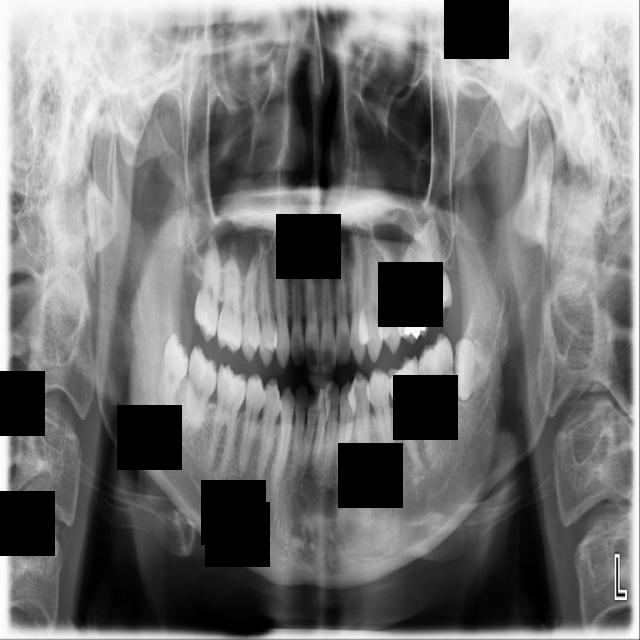52: (393, 291, 431, 347)
73: (607, 544, 610, 548)
BioHorizons Implant: (410, 213, 456, 327)
Biomet 3i Implant: (448, 335, 498, 405)
Blue Sky Bio Implant: (415, 330, 461, 436)
Caries: (191, 236, 227, 347)
Implant: (181, 343, 220, 442)
Keystone Dental Implant: (155, 331, 194, 413)
